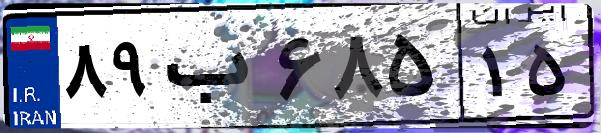1: (475, 38, 525, 113)
5: (385, 28, 445, 110), (525, 38, 570, 115)
6: (270, 28, 330, 110)
8: (330, 28, 385, 110), (57, 26, 110, 100)
9: (110, 28, 158, 98)
ب: (158, 20, 270, 120)
